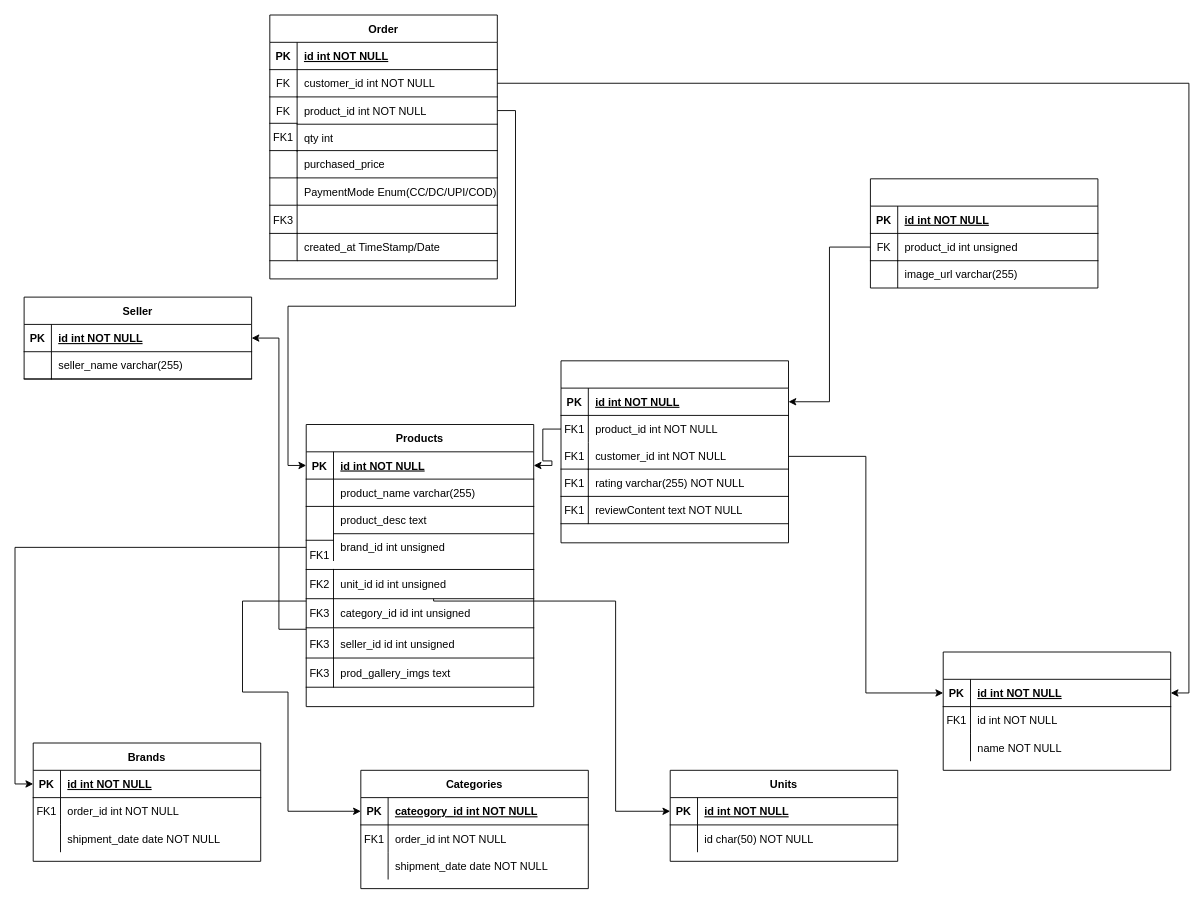
Image size: 1204x904. Some labels were removed from this diagram. The shapes that lost their labels are listed below. From the top down, each one's box as (x1, y1, x2, y2) in pixels, then its label:
(870, 178, 1098, 288): Product_Gallery_Imgs
(560, 360, 789, 543): Reviews
(942, 651, 1171, 770): Users
